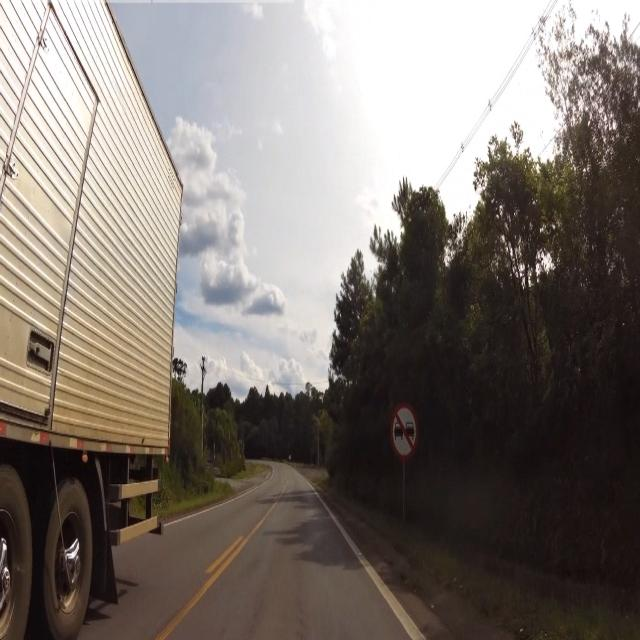R-7: (390, 403, 420, 462)
